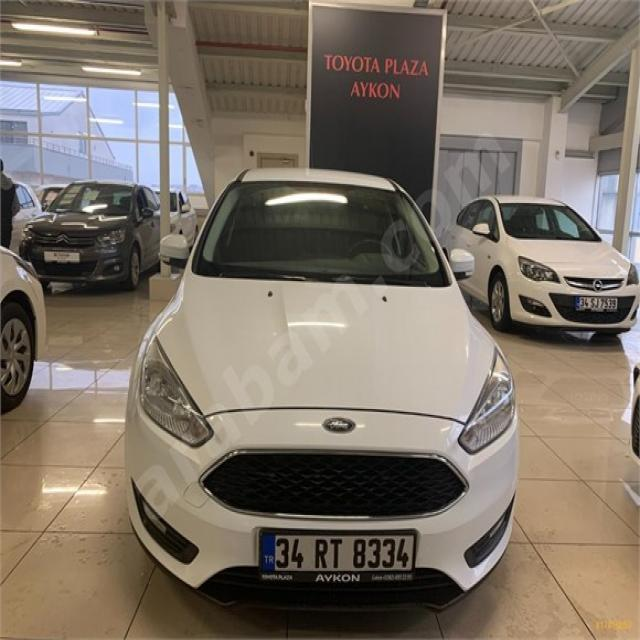plate: (257, 528, 421, 585)
